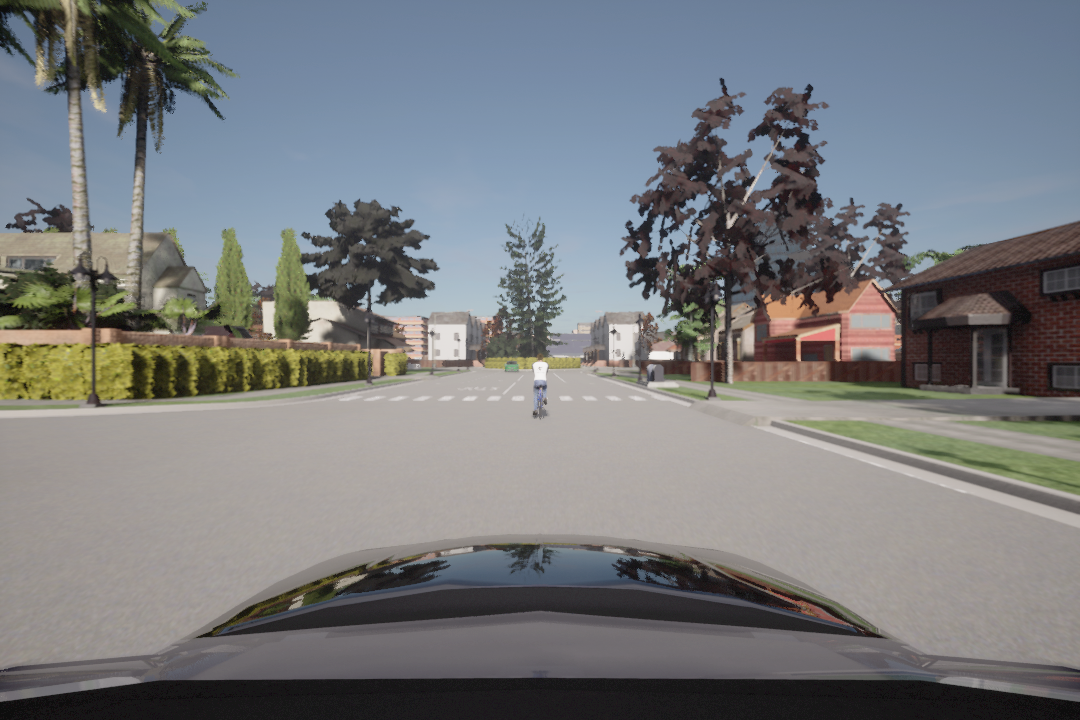walkside: (339, 391, 681, 407)
